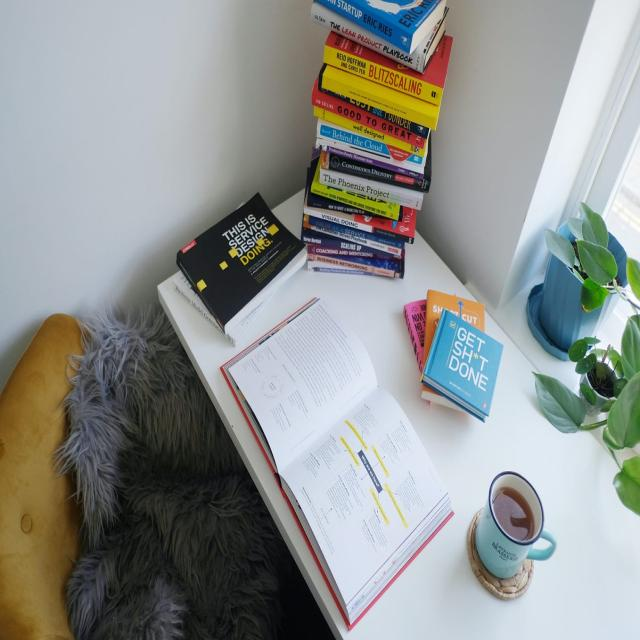book: (213, 299, 456, 622), (171, 190, 311, 338), (426, 307, 505, 419), (304, 203, 419, 245)
glass: (469, 466, 559, 579)
